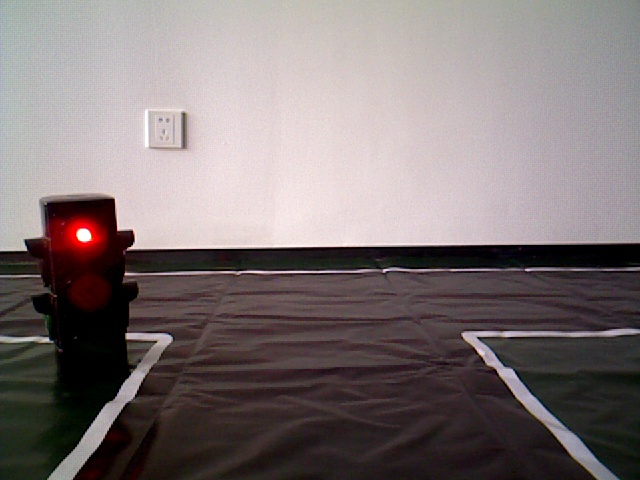red: (40, 207, 127, 373)
